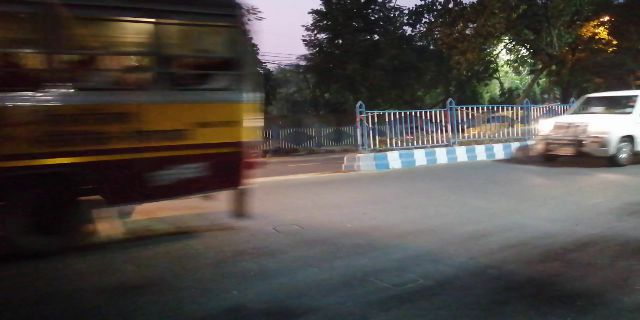Bus: (15, 5, 264, 206)
Car: (539, 85, 637, 162)
